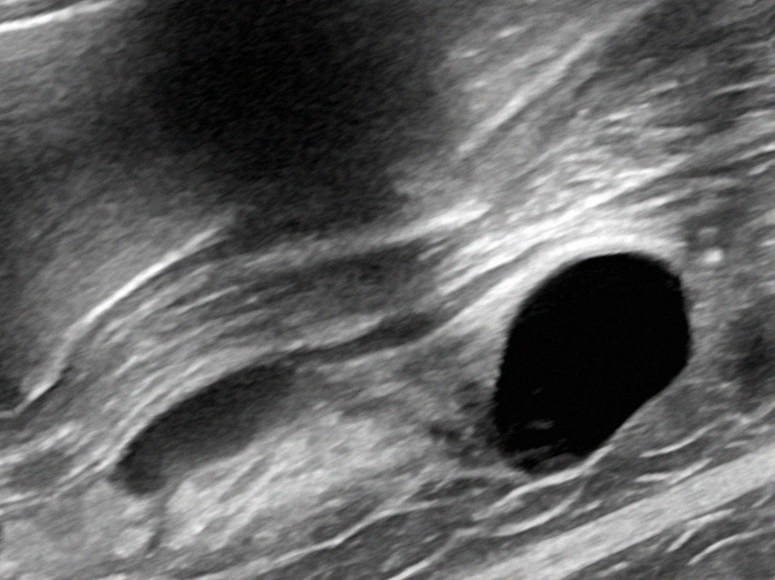Benign: (486, 240, 693, 470)
